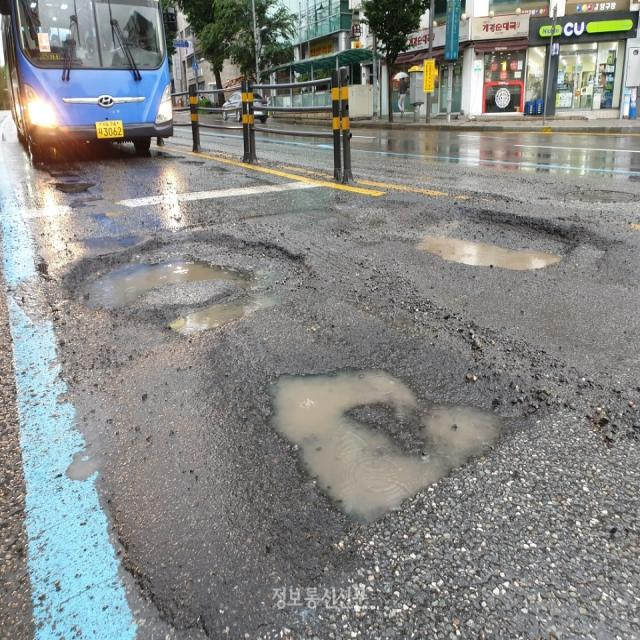pothole: (276, 338, 498, 527), (44, 215, 311, 338), (422, 186, 588, 279)
